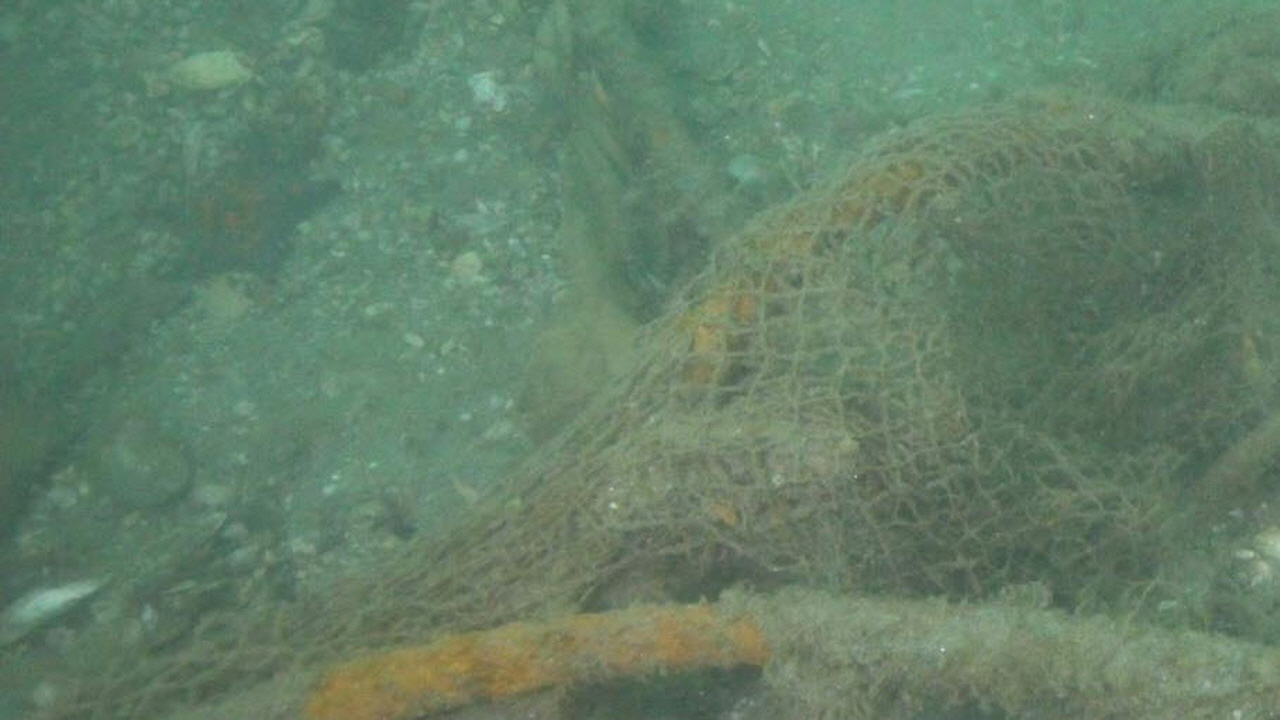fish net: (19, 101, 1195, 720)
